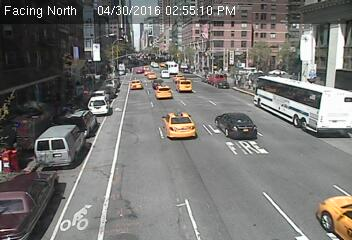neg: (108, 175, 139, 217), (278, 71, 309, 112), (106, 36, 135, 76), (162, 103, 191, 142), (168, 165, 196, 203), (287, 155, 313, 190), (249, 158, 274, 191), (41, 70, 64, 100), (6, 144, 27, 172), (70, 200, 89, 226), (35, 129, 53, 154), (200, 58, 218, 81), (206, 21, 222, 42), (160, 72, 174, 91), (254, 72, 268, 90), (103, 138, 116, 156), (97, 86, 110, 103), (212, 114, 224, 129)
